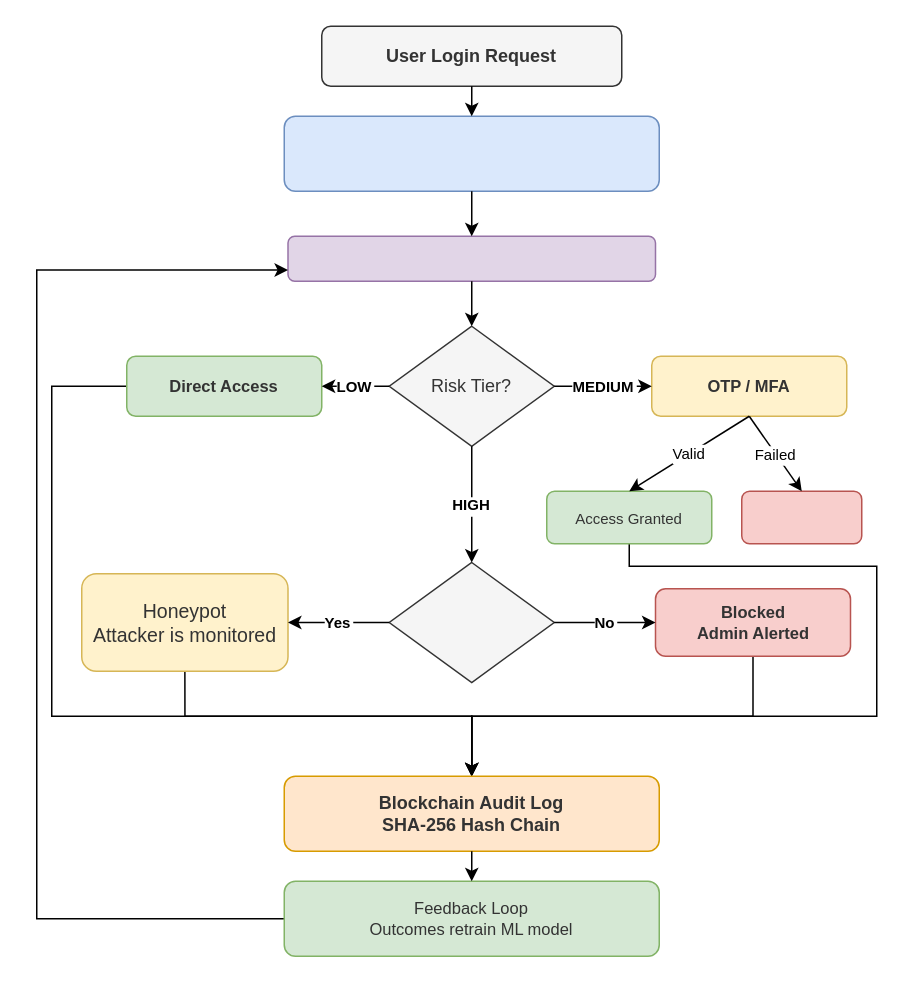
Some shapes in this 915 by 983 pixel diagram are drawn without their labels. The shapes that lost their labels are listed below. From the top down, each one's box as (x1, y1, x2, y2) in pixels, then its label:
(283, 115, 659, 191): Feature Extraction IP, Device, Location, Time, Behavior
(286, 235, 656, 281): ML Risk Scoring
(740, 490, 862, 544): Denied
(388, 561, 554, 682): Stolen Credentials?
